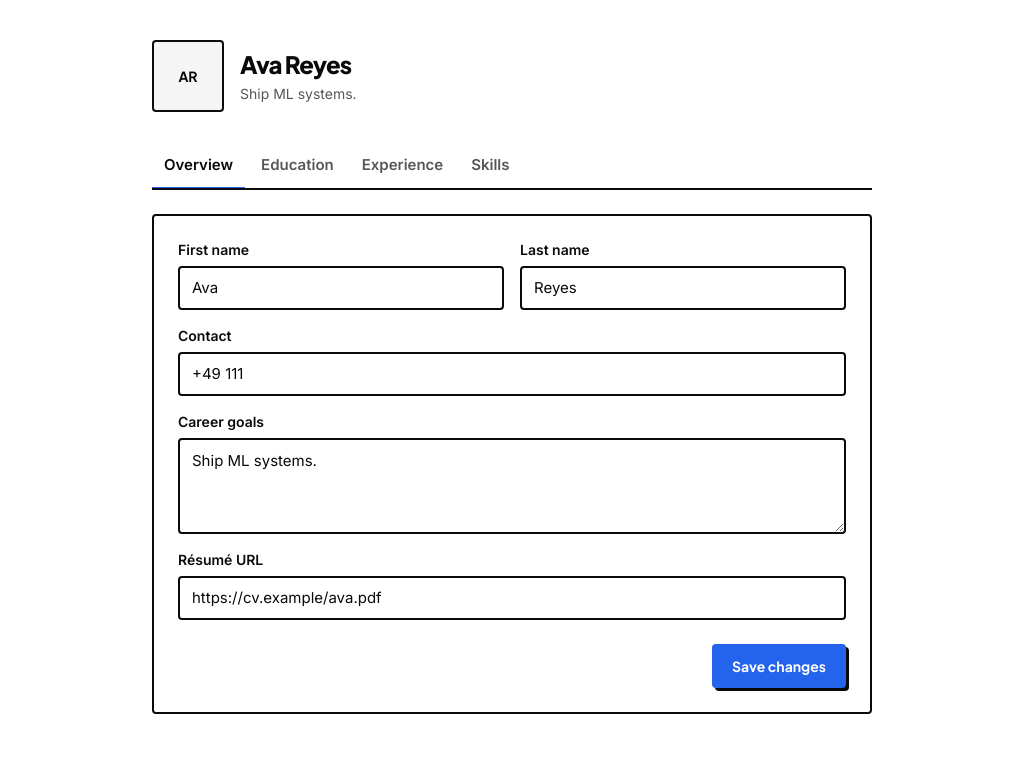
Test case: SeekerProfilePage › surfaces a duplicate-skill 400 as a toast
Click the tab "Skills" at (490, 167), box [459,144,522,190]
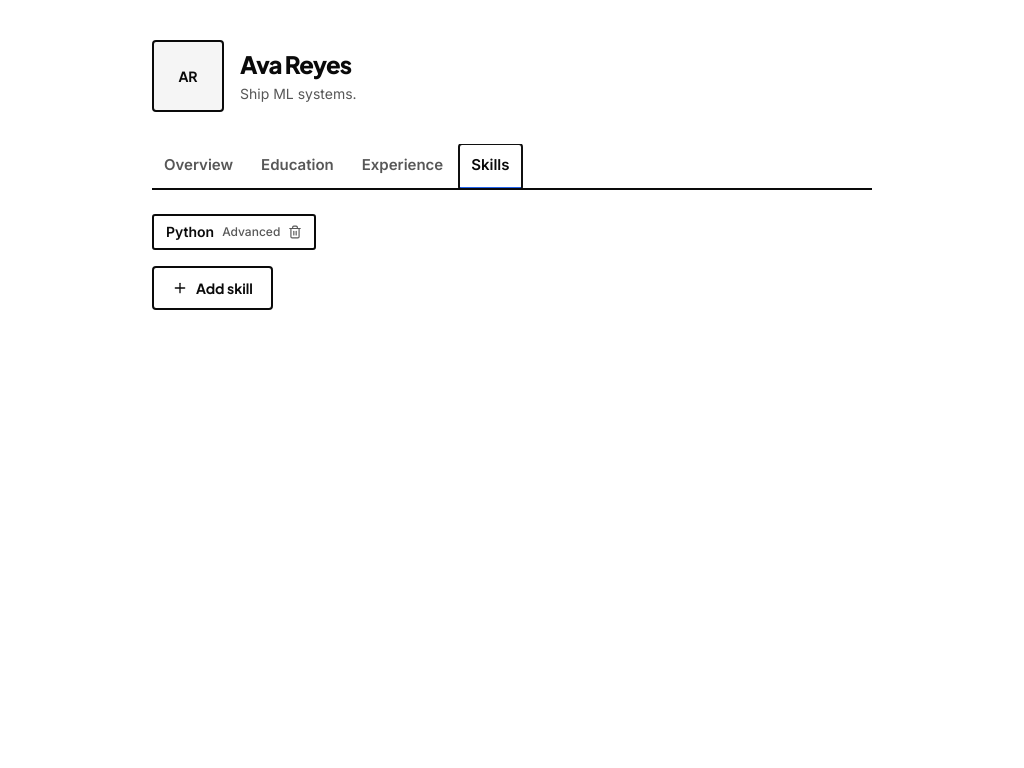
Click the button "Add skill" at (212, 288), box [152,266,273,310]
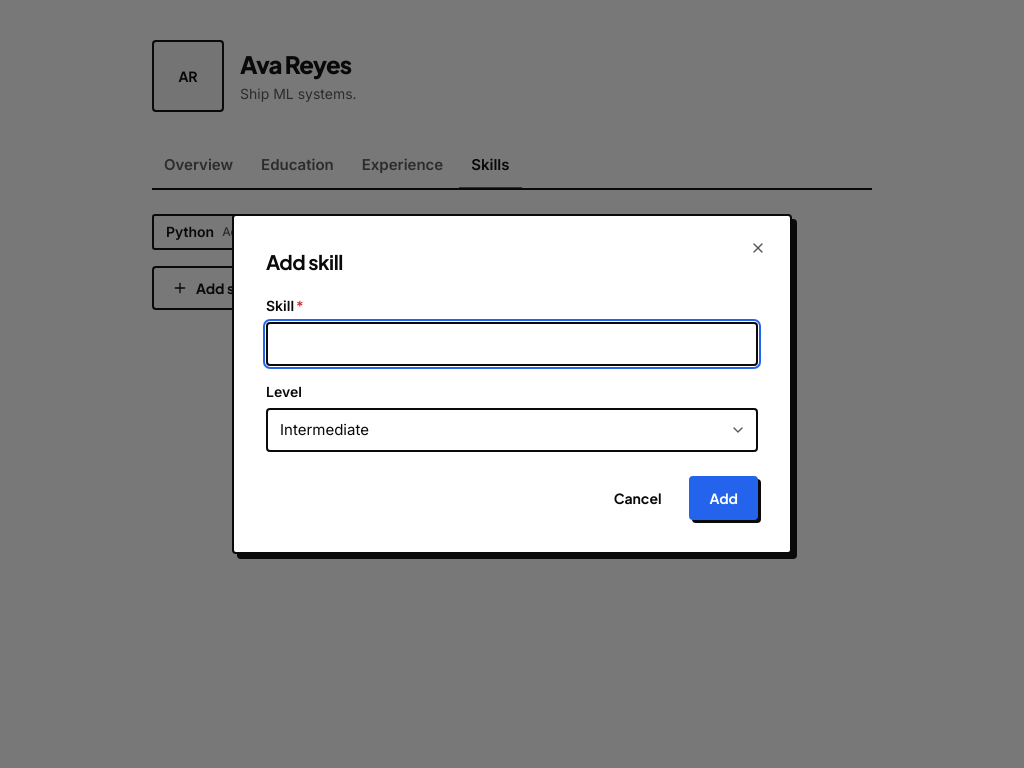
Type "Python" into the field labelled "Skill*" at (512, 344), box [266,322,758,366]
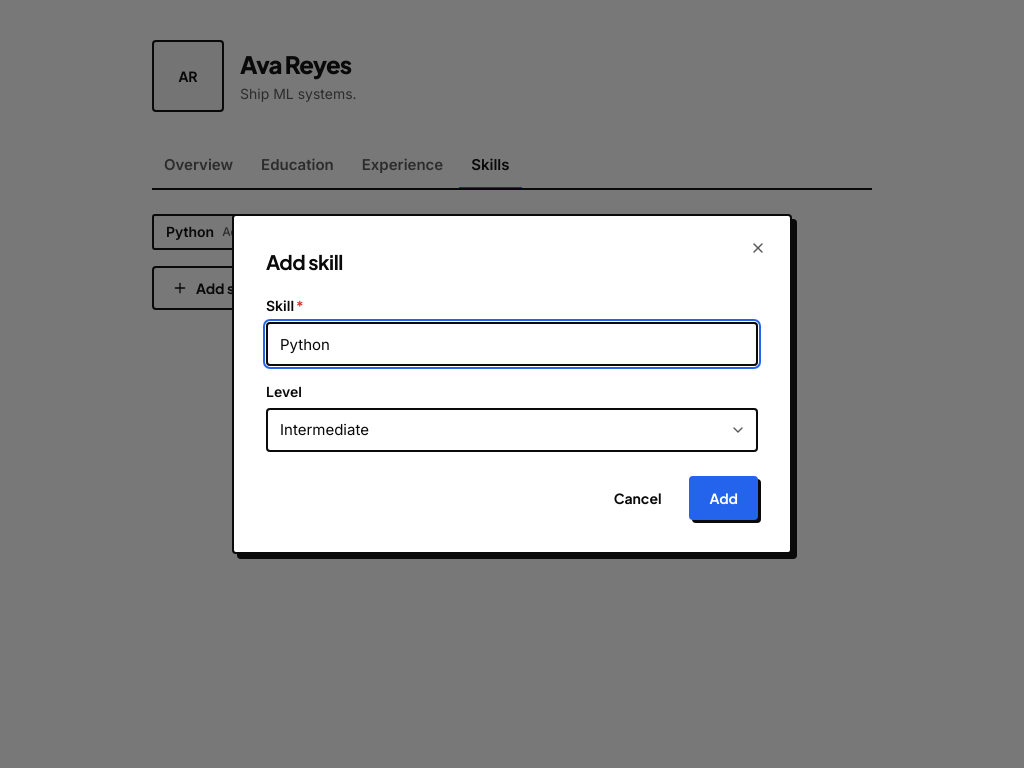
Click the button "Add" at (724, 498), box [690,476,758,520]
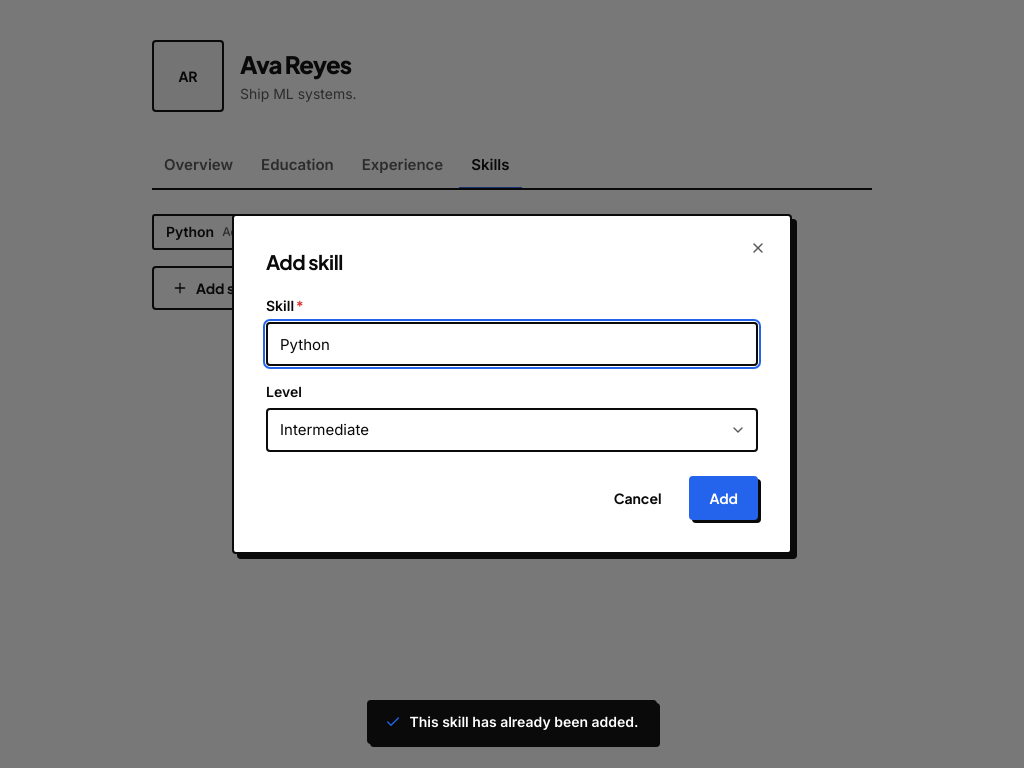
Check: the text "This skill has already been added." is shown, box [367,700,656,744]
